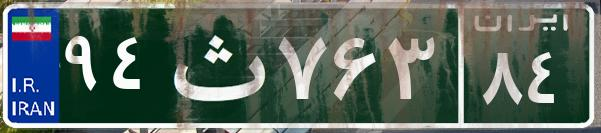3: (385, 28, 445, 110)
4: (110, 28, 158, 105), (525, 38, 570, 115)
6: (330, 28, 385, 110)
7: (273, 28, 330, 110)
8: (475, 38, 525, 113)
9: (57, 26, 110, 107)
ث: (158, 15, 273, 115)
